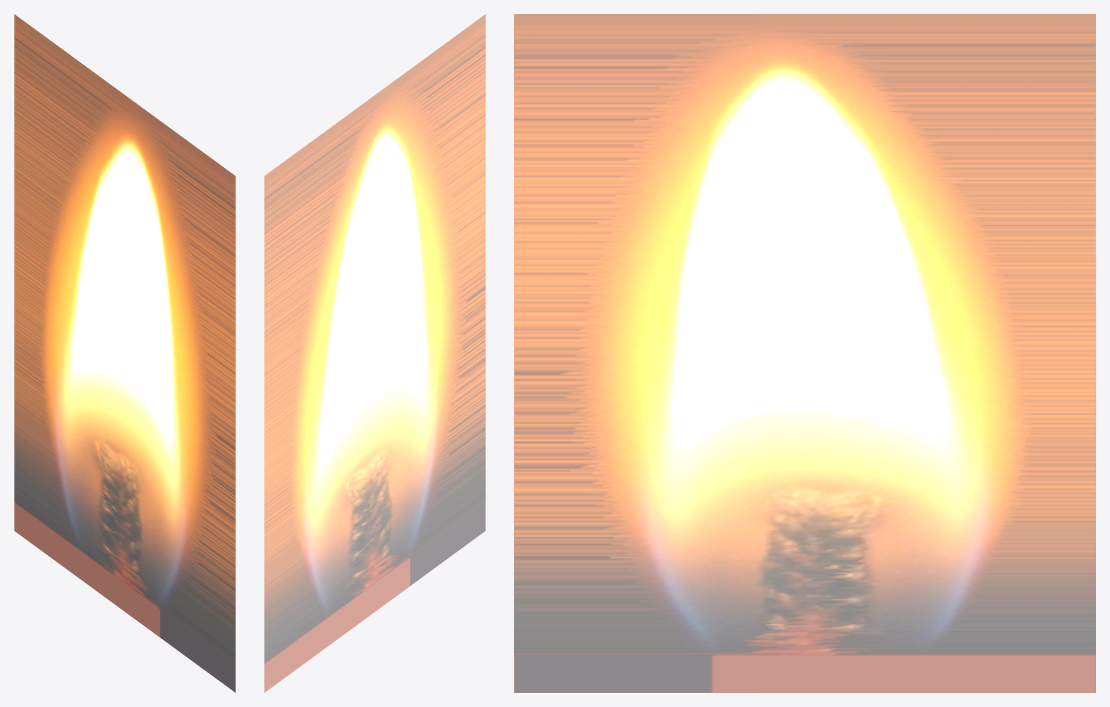
File: SM_Fire.fbx
3 renders of one model, left to right at view 1: azimuth 30°, elevation 25°; view 2: azimuth 150°, elevation 25°; view 3: azimuth 270°, elevation 25°, orthographic. The views are drawn at different scales.
Parts seen in each view (by area): view 1: SM_Fire; view 2: SM_Fire; view 3: SM_Fire.
Part boxes in pixels (x1,y1,x2,y2): SM_Fire: (14,14,235,692); SM_Fire: (264,14,485,692); SM_Fire: (514,14,1095,692).
Bounding box in the file's own units: 3.1e-07 × 2.6 × 3.34.
